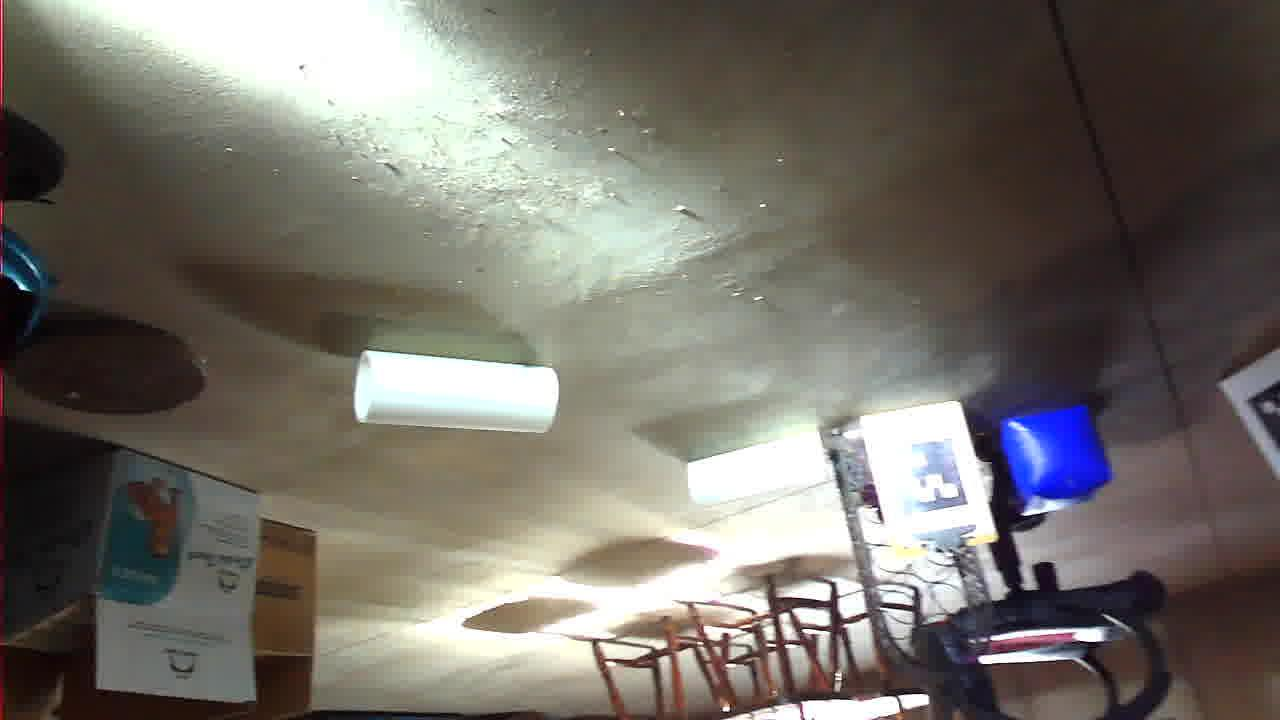coral: (722, 285, 925, 373), (451, 213, 592, 288)
